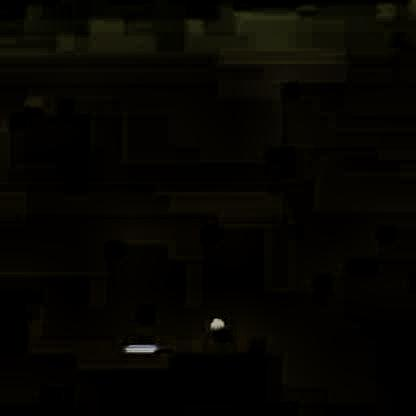golfball: (206, 314, 223, 329)
